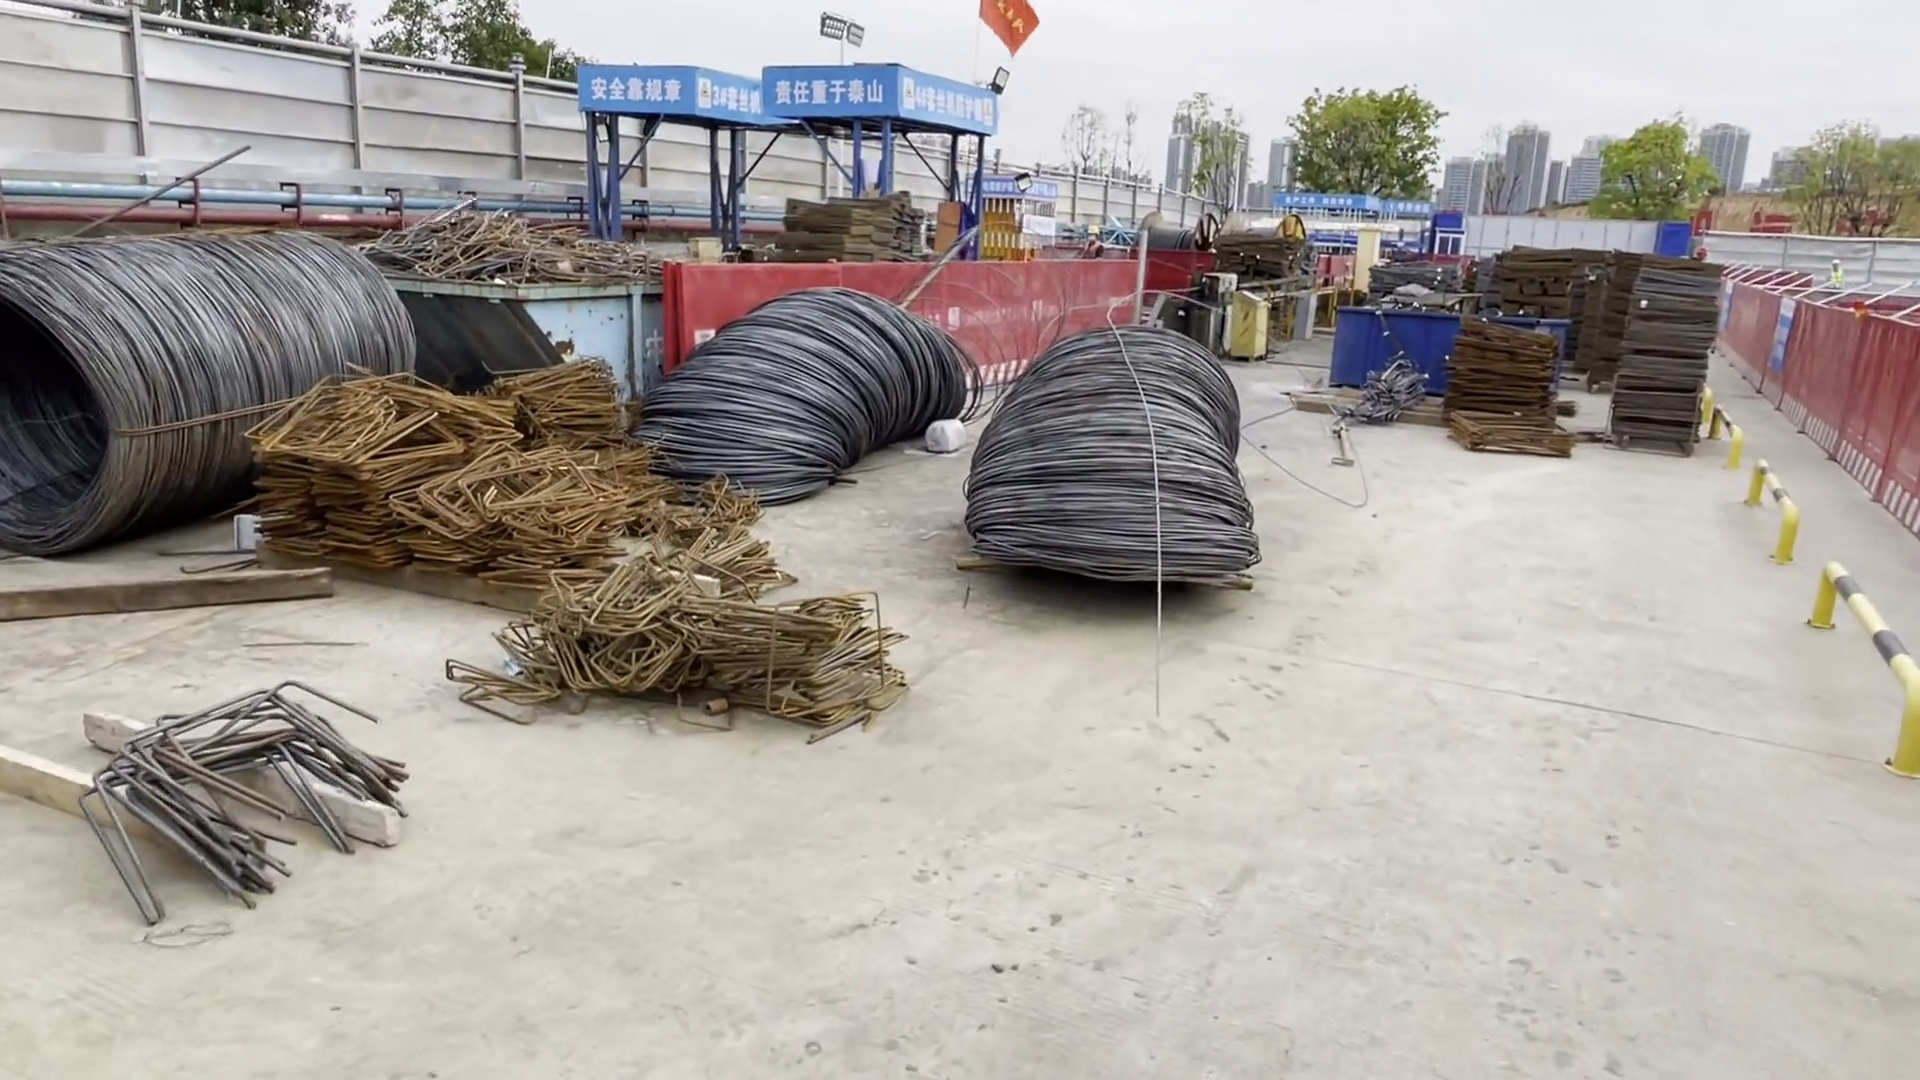ebox: (1354, 225, 1379, 295)
fence: (673, 256, 1137, 382), (1717, 288, 1920, 530)
helmet: (1082, 224, 1096, 235)
hopper: (400, 270, 666, 392), (1331, 303, 1554, 390)
person: (1071, 224, 1110, 258), (1826, 259, 1844, 285)
rebar: (1344, 366, 1422, 421)
slogan: (767, 68, 999, 126), (574, 67, 762, 122), (1276, 196, 1435, 217), (979, 173, 1056, 196), (1770, 300, 1794, 367)
vest: (1079, 243, 1101, 255)
